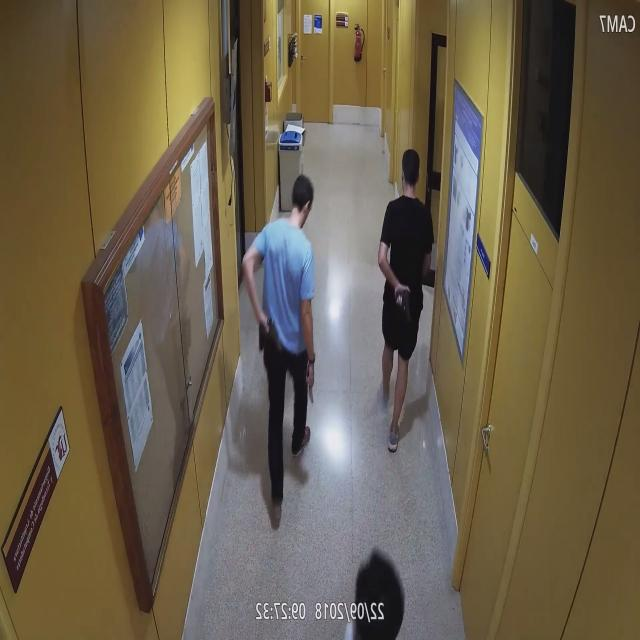knife: (306, 359, 315, 404)
pistol: (261, 315, 283, 358), (394, 286, 412, 326)
